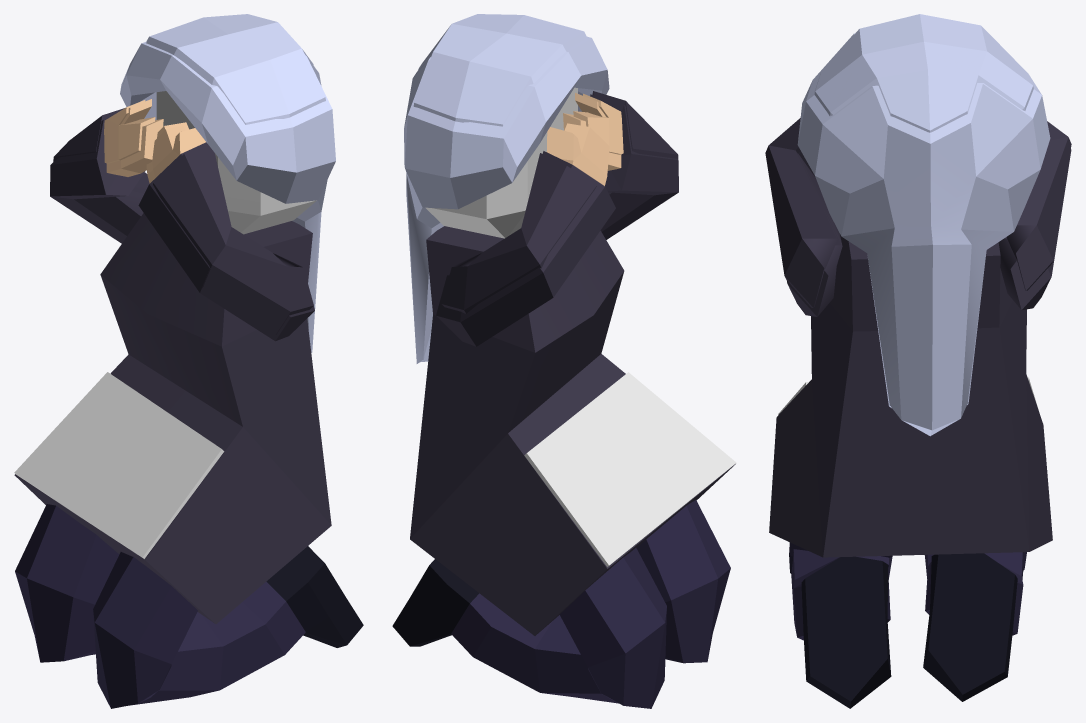
File: fountain lady.fbx
The picture shows the model from 3 angles, left to right: view 1: azimuth 30°, elevation 25°; view 2: azimuth 150°, elevation 25°; view 3: azimuth 270°, elevation 25°; orthographic projection. The views are drawn at different scales.
Parts seen in each view (by area): view 1: torso, Cube.115, hair, right leg.002, right arm, hair.001, right leg.003, right leg, right arm.001, head, right arm.003, right hand.002 (+3 smaller); view 2: torso, Cube.115, hair, right leg.001, hair.001, right leg, right leg.003, right arm.002, right arm.001, right arm.003, head, right hand.002 (+3 smaller); view 3: torso, hair, hair.001, right leg.002, right leg.001, right arm, right arm.002, right arm.001, right arm.003.
Part boxes in pixels (left/top/right/bottom): torso: left=14, top=213, right=331, bottom=624; Cube.115: left=14, top=372, right=224, bottom=558; hair: left=120, top=41, right=335, bottom=352; right leg.002: left=129, top=546, right=363, bottom=705; right arm: left=153, top=143, right=313, bottom=334; hair.001: left=140, top=14, right=325, bottom=124; right leg.003: left=93, top=552, right=197, bottom=708; right leg: left=15, top=504, right=119, bottom=662; right arm.001: left=50, top=118, right=144, bottom=243; head: left=156, top=91, right=316, bottom=234; right arm.003: left=138, top=142, right=314, bottom=341; right hand.002: left=104, top=100, right=155, bottom=163; torso: left=410, top=226, right=735, bottom=635; Cube.115: left=524, top=372, right=736, bottom=567; hair: left=404, top=36, right=609, bottom=363; right leg.001: left=392, top=559, right=618, bottom=703; hair.001: left=413, top=14, right=587, bottom=328; right leg: left=559, top=548, right=666, bottom=708; right leg.003: left=636, top=500, right=730, bottom=663; right arm.002: left=441, top=153, right=596, bottom=313; right arm.001: left=436, top=151, right=615, bottom=346; right arm.003: left=590, top=94, right=678, bottom=239; head: left=425, top=87, right=577, bottom=238; right hand.002: left=551, top=126, right=605, bottom=183; torso: left=769, top=234, right=1052, bottom=557; hair: left=797, top=33, right=1050, bottom=436; hair.001: left=814, top=14, right=1033, bottom=132; right leg.002: left=791, top=549, right=891, bottom=708; right leg.001: left=923, top=552, right=1023, bottom=701; right arm: left=765, top=118, right=837, bottom=307; right arm.002: left=1006, top=121, right=1071, bottom=290; right arm.001: left=998, top=149, right=1071, bottom=309; right arm.003: left=786, top=152, right=842, bottom=316.
Bounding box in the file's own units: 85.44 × 185 × 80.
